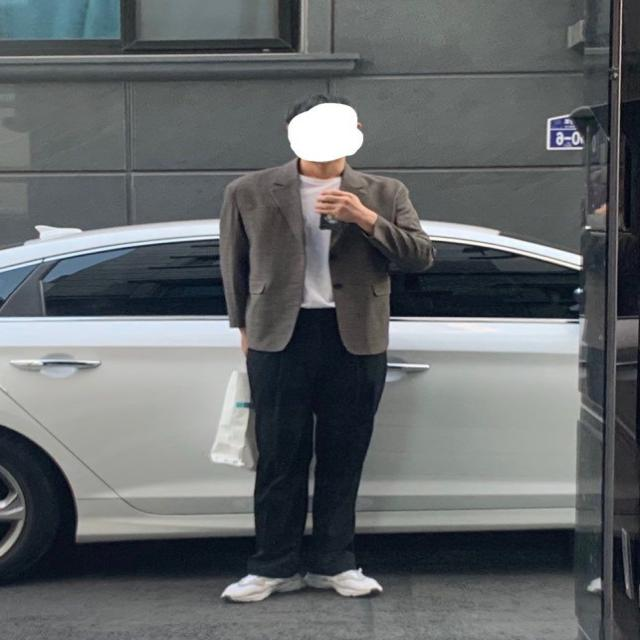blazer: (217, 163, 435, 358), (245, 307, 387, 578)
